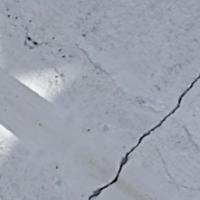crack: (77, 66, 199, 199)
